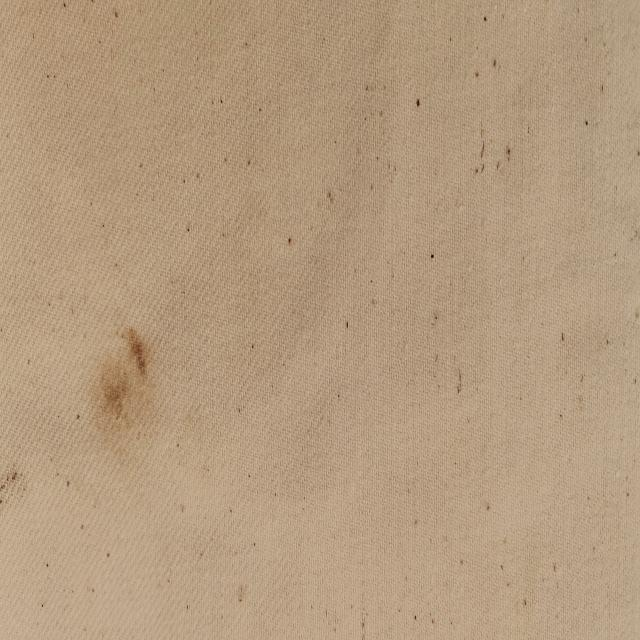taaaches: (95, 327, 152, 432), (1, 458, 24, 515)
